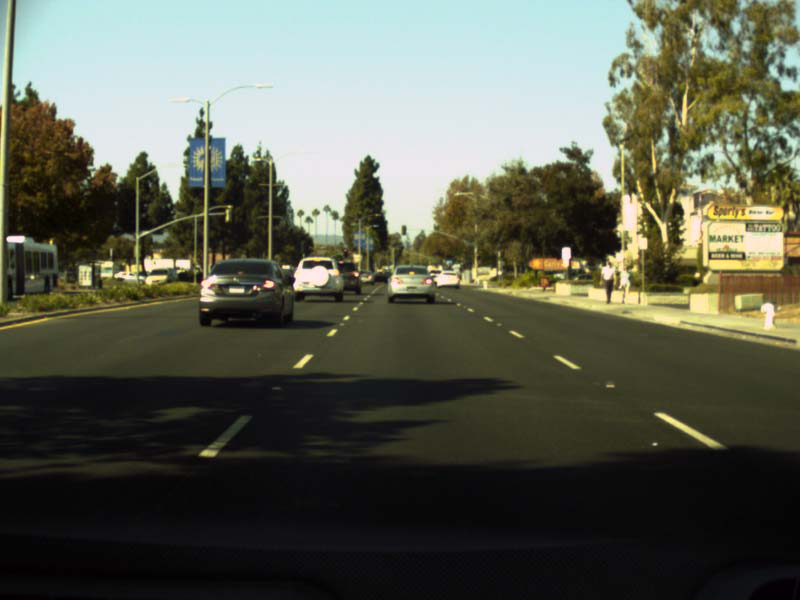Red: (343, 248, 347, 256)
